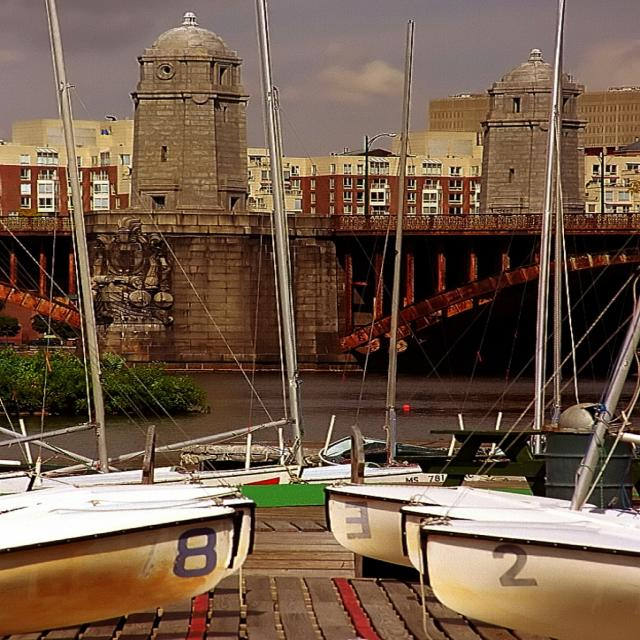Boat: (0, 0, 639, 639), (417, 300, 639, 640)
